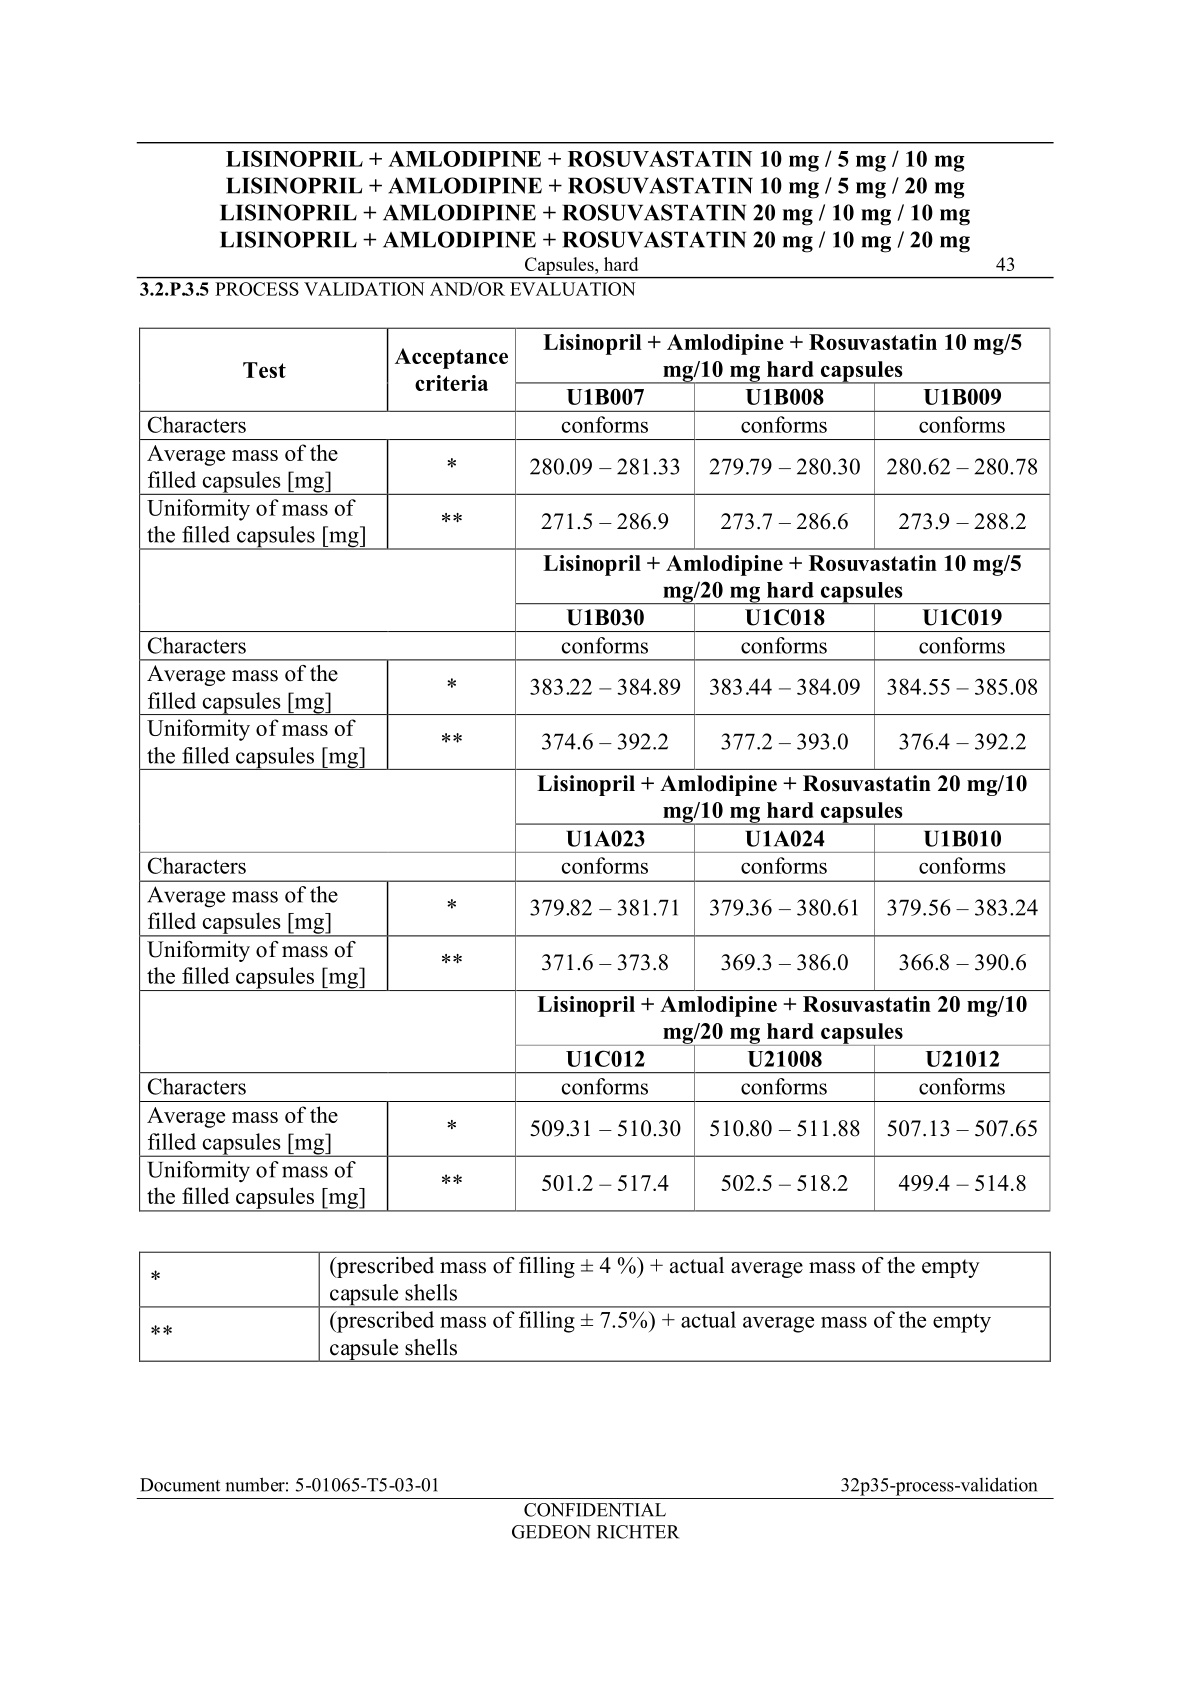full_lined: (138, 1250, 1053, 1364)
merged_cells: (138, 326, 1053, 1214)
